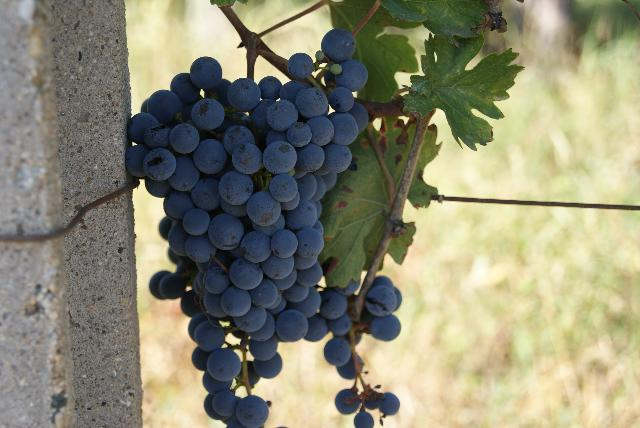grapes: (130, 29, 368, 428)
